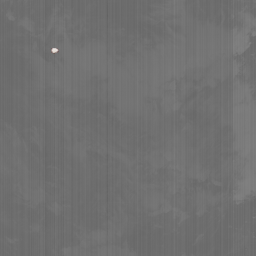Target: (50, 47, 59, 53)
